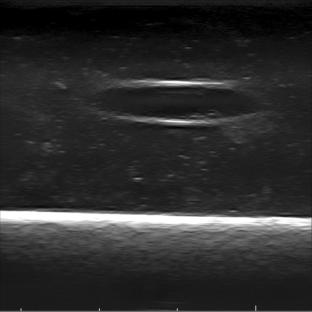vessel: (91, 79, 267, 126)
